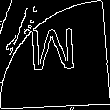M_S: (29, 28, 81, 82)
